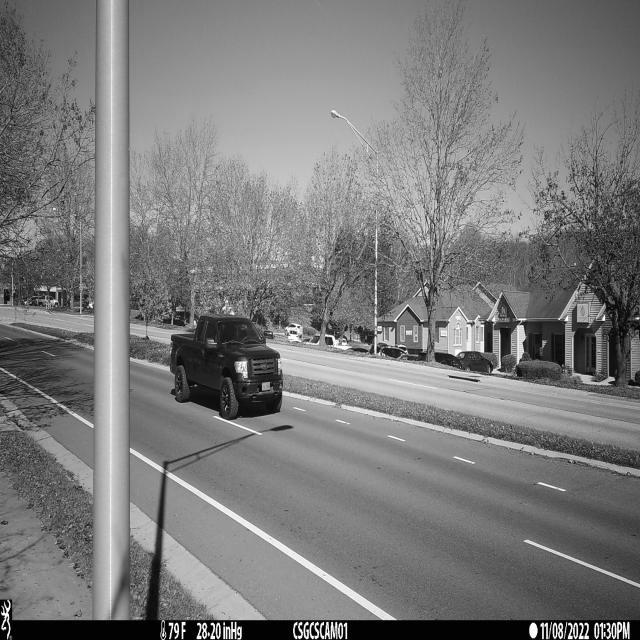Pickup: (171, 315, 284, 420)
